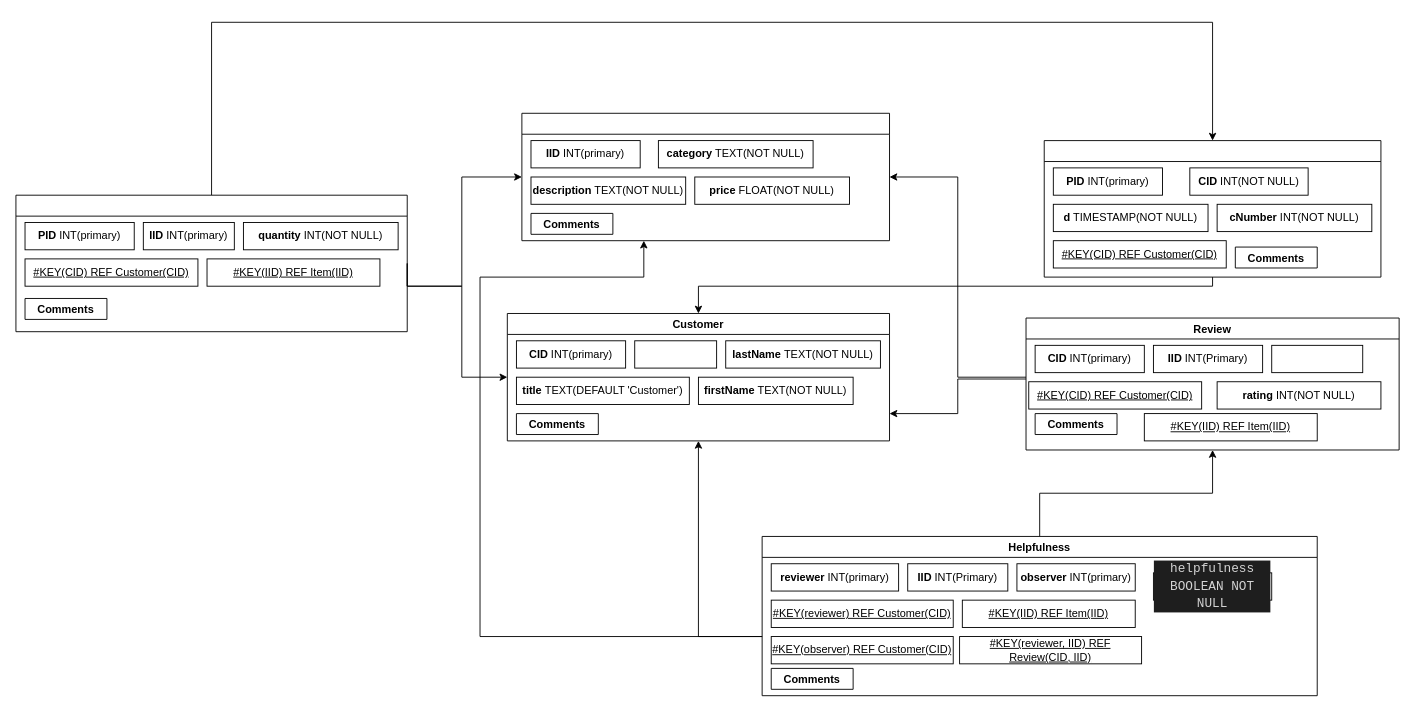
This 1415x712 diagram has some shape labels left out. The box of each missing label's shape, as (x1, y1, x2, y2) in pixels:
comment TEXT: (1271, 344, 1363, 373)
email TEXT: (634, 340, 717, 368)
ITEM: (521, 112, 890, 241)
LineItem: (15, 194, 407, 332)
Purchase: (1043, 140, 1381, 277)
